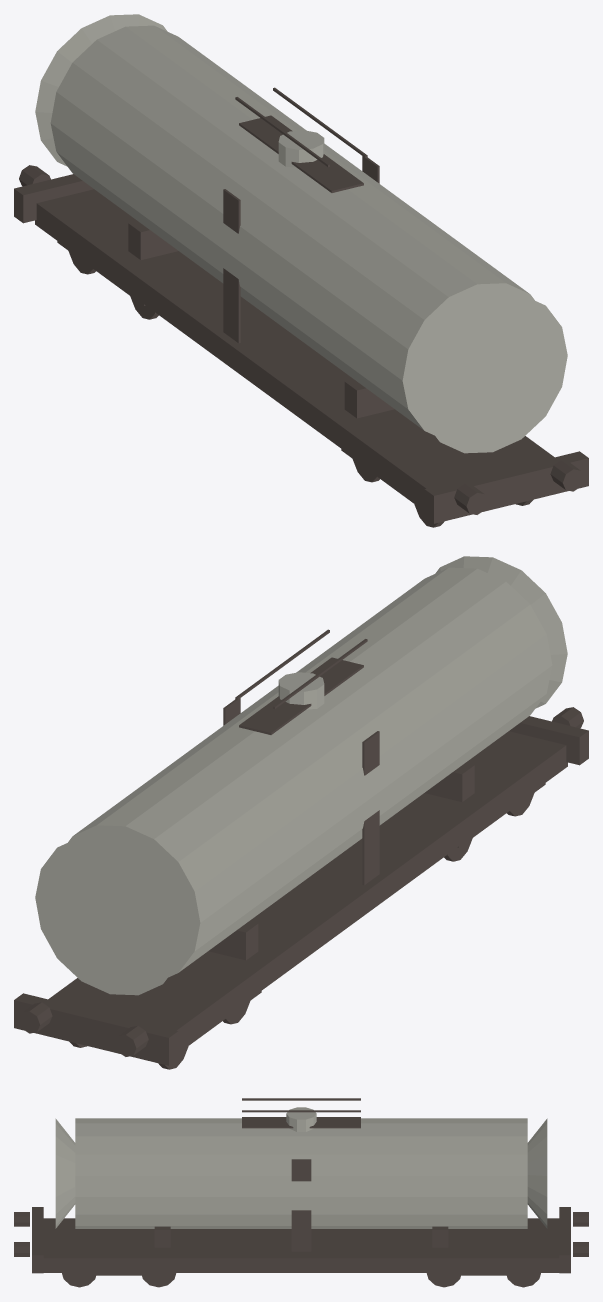
Rendered from SM_Vagon_Cercano_v4_LOD0.fbx.
3 views of the same model, one above another, from view 1: azimuth 30°, elevation 25°; view 2: azimuth 150°, elevation 25°; view 3: azimuth 270°, elevation 25° (orthographic). The views are drawn at different scales.
Visible parts, largest first — view 1: SM_bloques.vagon_cercano_v4_LOD0; view 2: SM_bloques.vagon_cercano_v4_LOD0; view 3: SM_bloques.vagon_cercano_v4_LOD0.
Part boxes in pixels (x1,y1,x2,y2): SM_bloques.vagon_cercano_v4_LOD0: [14, 14, 588, 527]; SM_bloques.vagon_cercano_v4_LOD0: [14, 556, 588, 1069]; SM_bloques.vagon_cercano_v4_LOD0: [14, 1098, 588, 1287].
Bounding box in the file's own units: 2.9 × 4.67 × 14.5.
